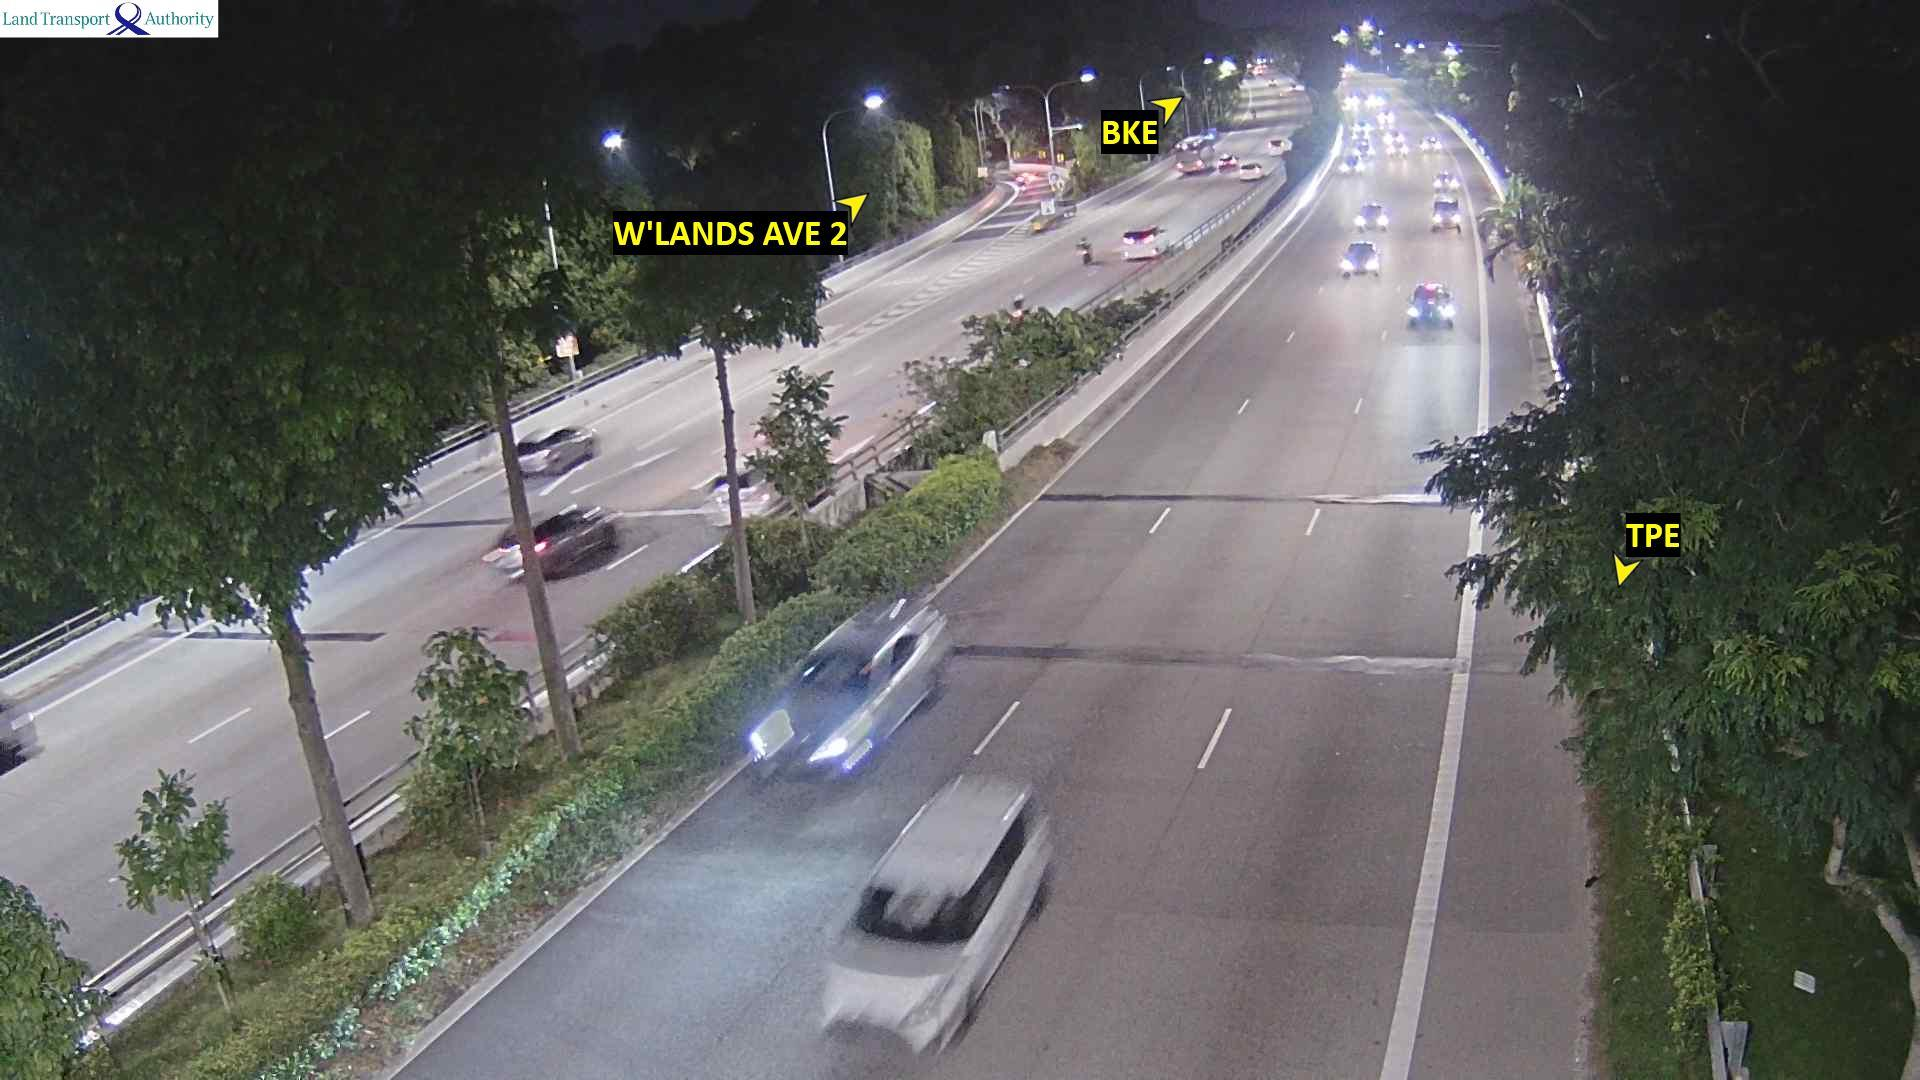cars: (818, 767, 1054, 1056), (742, 592, 953, 786), (481, 502, 618, 582), (705, 448, 786, 514), (512, 425, 597, 476), (1404, 280, 1456, 328), (1337, 239, 1381, 278), (1120, 224, 1167, 260), (1353, 199, 1389, 231), (1429, 196, 1461, 232), (1382, 129, 1408, 160), (1174, 133, 1211, 153), (1338, 150, 1367, 174), (1174, 156, 1208, 175), (1431, 169, 1458, 193), (1266, 136, 1292, 156), (1238, 161, 1263, 181), (1215, 152, 1240, 171), (1418, 133, 1441, 152), (1349, 120, 1373, 136), (1375, 108, 1395, 123)
motorcycle: (1076, 237, 1095, 266)
